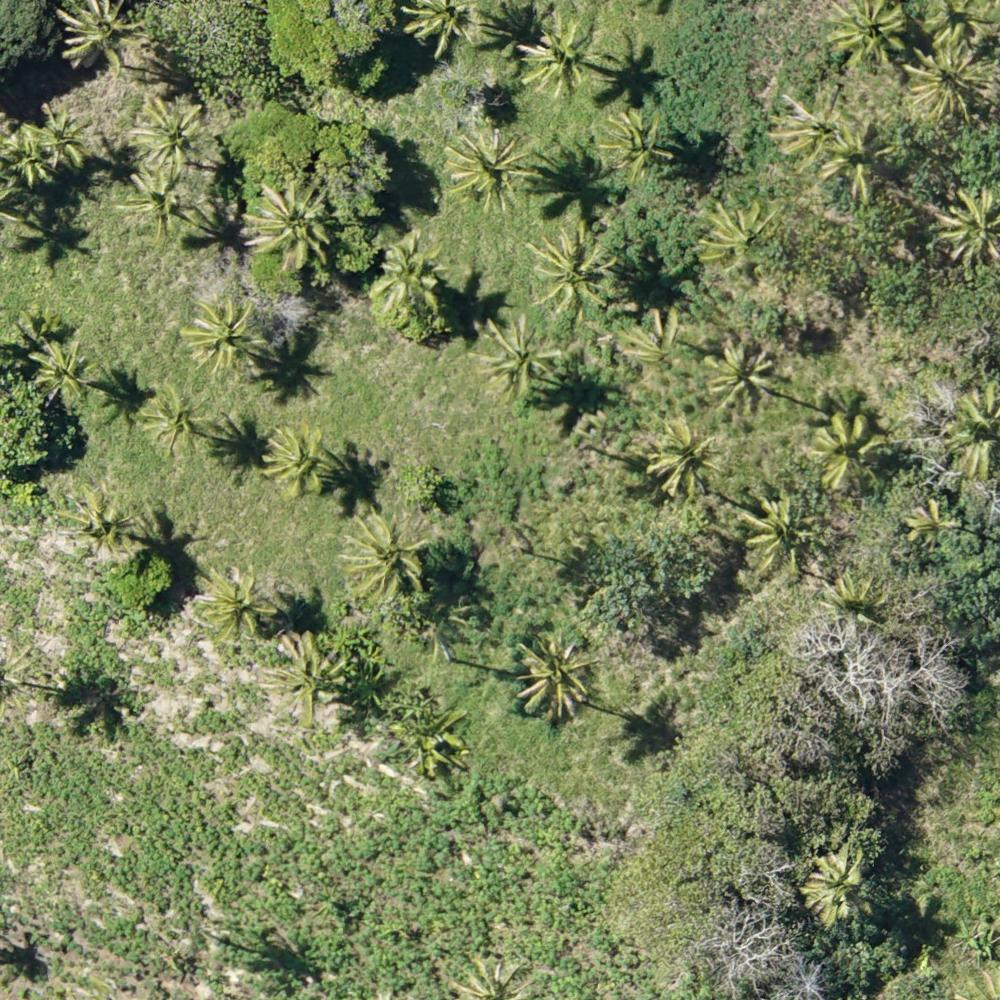Palm: (437, 127, 538, 210), (341, 513, 429, 600), (247, 178, 335, 264), (179, 295, 269, 373), (117, 171, 200, 254), (476, 314, 561, 395), (530, 225, 613, 307), (270, 636, 350, 719), (768, 86, 854, 161), (518, 635, 596, 716), (747, 495, 828, 572), (515, 14, 591, 96), (820, 2, 909, 72), (908, 44, 991, 119), (56, 1, 143, 71), (812, 410, 887, 491), (602, 105, 679, 181), (188, 566, 273, 634), (53, 488, 136, 557), (129, 93, 207, 166), (707, 340, 779, 419), (806, 845, 876, 926), (376, 237, 445, 318), (257, 424, 332, 497), (932, 183, 1000, 263), (824, 122, 893, 198), (647, 423, 718, 494), (140, 382, 206, 457), (700, 198, 779, 260), (26, 100, 95, 165), (623, 306, 687, 369), (399, 1, 474, 54), (32, 332, 89, 397), (902, 495, 954, 546)
